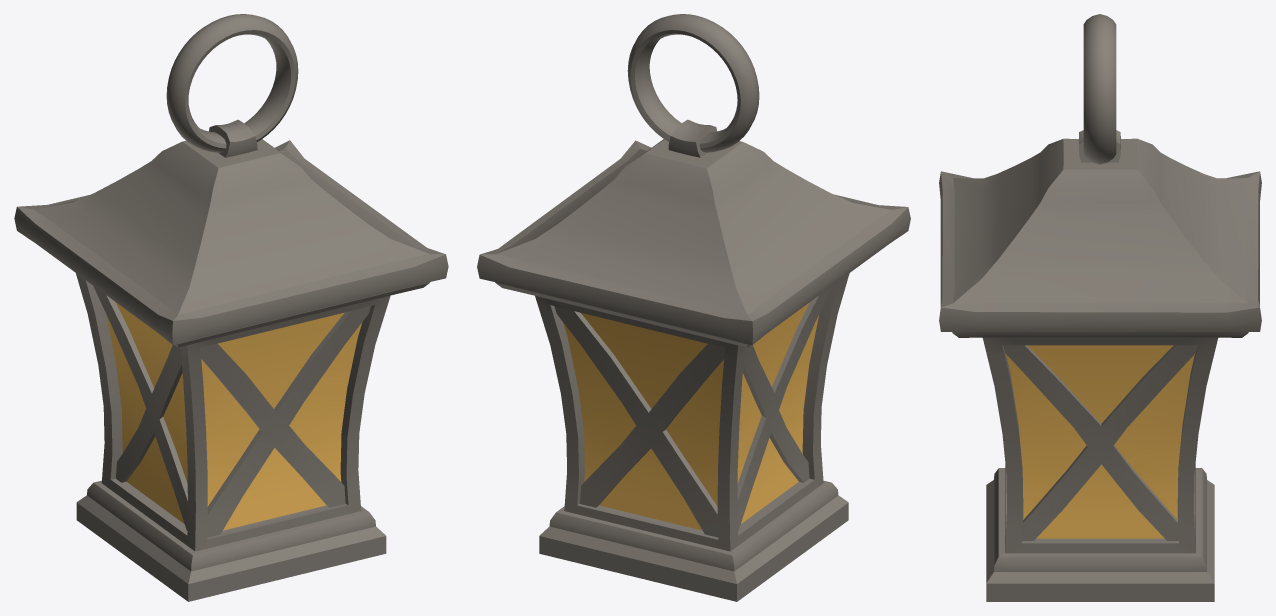
File: Lantern.fbx
3 renders of one model, left to right at view 1: azimuth 30°, elevation 25°; view 2: azimuth 150°, elevation 25°; view 3: azimuth 270°, elevation 25°, orthographic. The views are drawn at different scales.
Visible parts, largest first — view 1: Lantern; view 2: Lantern; view 3: Lantern.
Part boxes in pixels (left/top/right/bottom): Lantern: left=14, top=14, right=448, bottom=601; Lantern: left=477, top=14, right=910, bottom=601; Lantern: left=939, top=14, right=1261, bottom=601.
Bounding box in the file's own units: 22.28 × 40.09 × 22.06.
